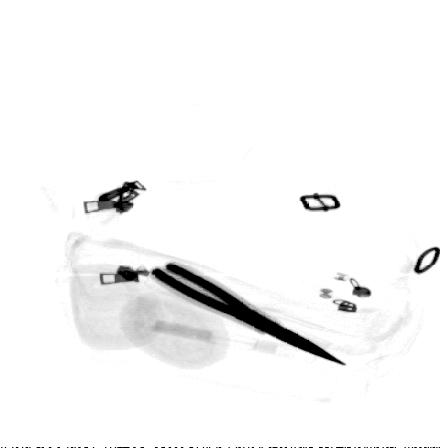Pliers: (149, 260, 348, 367)
